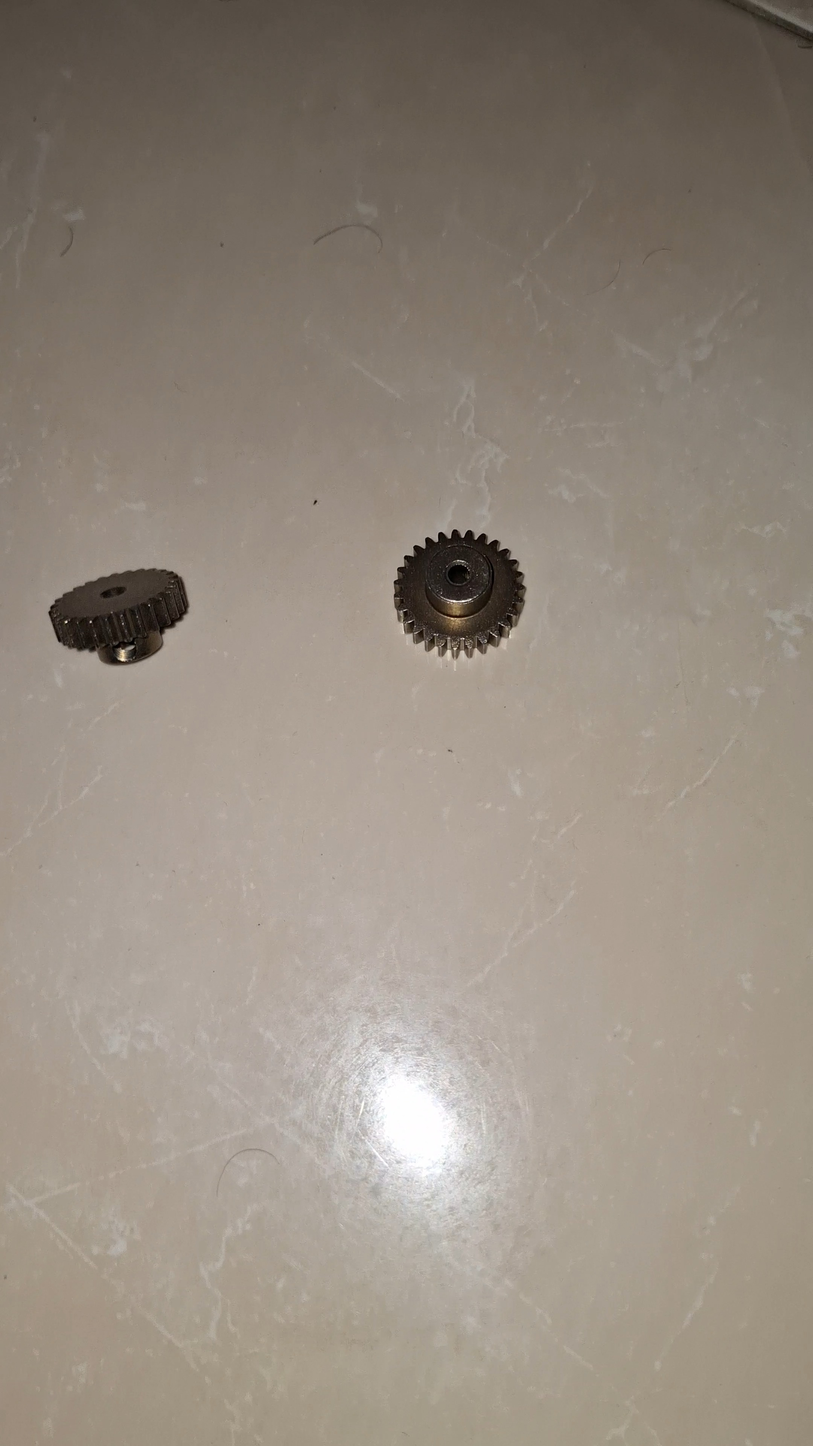spur gear: (394, 529, 525, 657), (49, 569, 187, 664)
